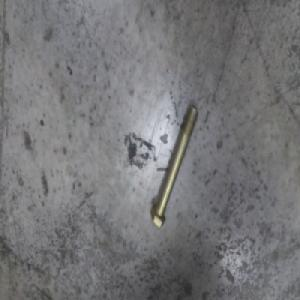Bolt: (150, 108, 198, 230)
